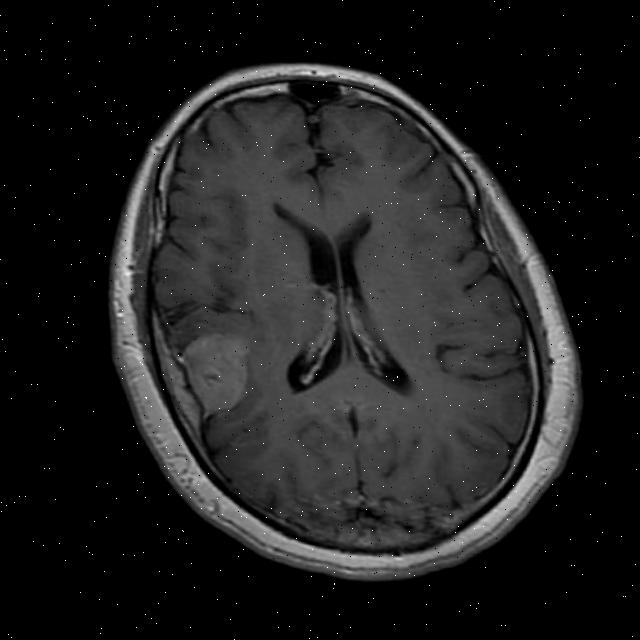Meningioma: (183, 331, 253, 413)
